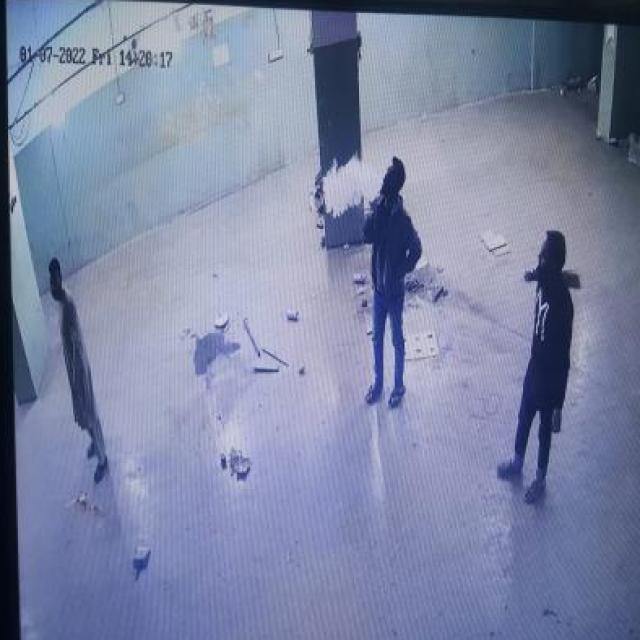fire: (322, 148, 372, 219)
